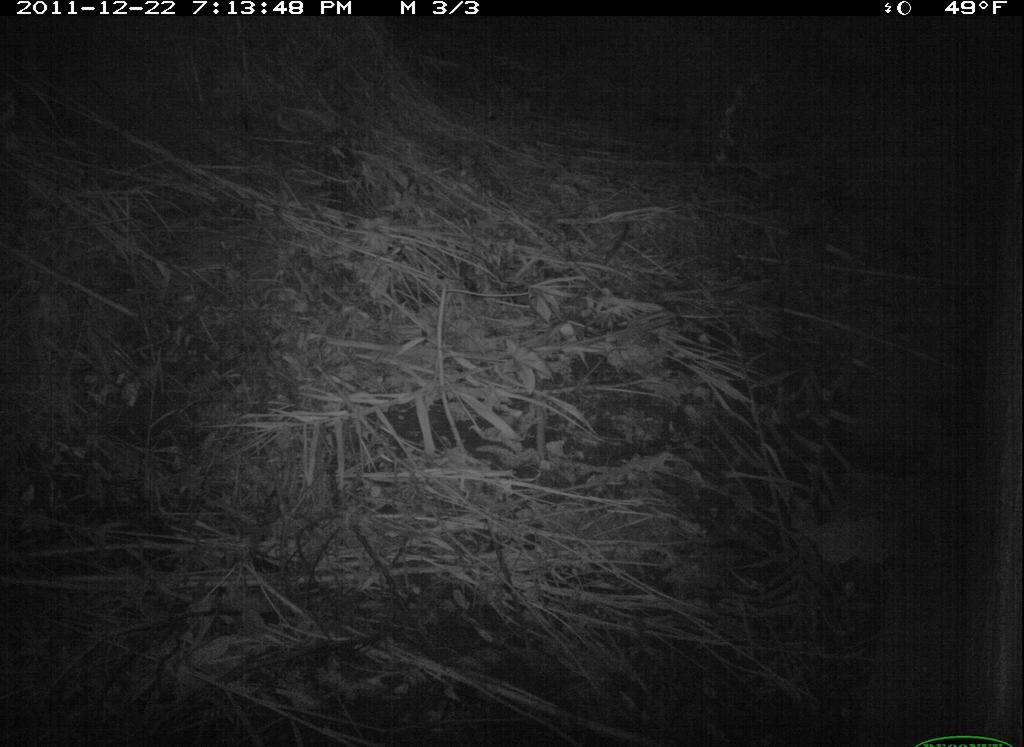bobcat: (768, 211, 835, 322)
